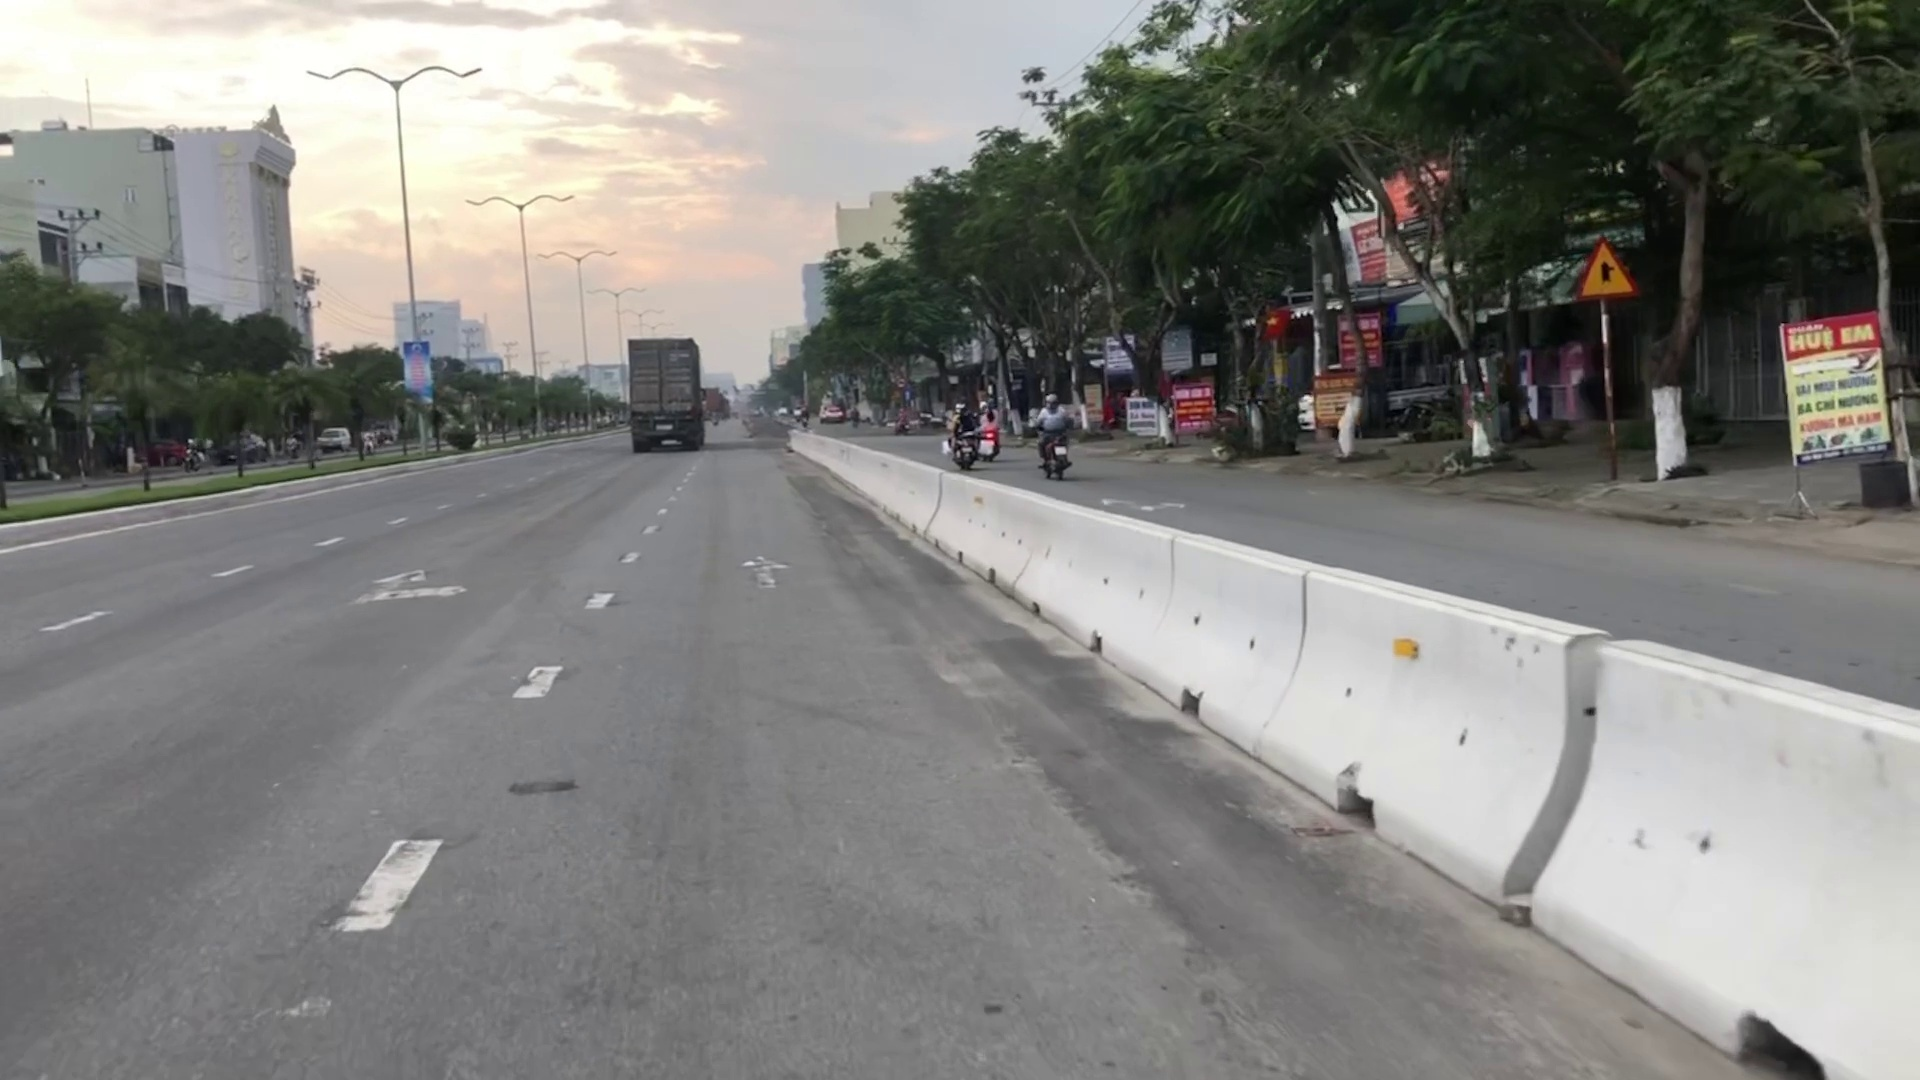Giao nhau voi duong khong uu tien: (1576, 233, 1639, 297)
